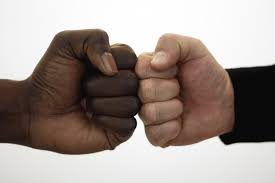click: (139, 11, 259, 175), (15, 12, 138, 160)
